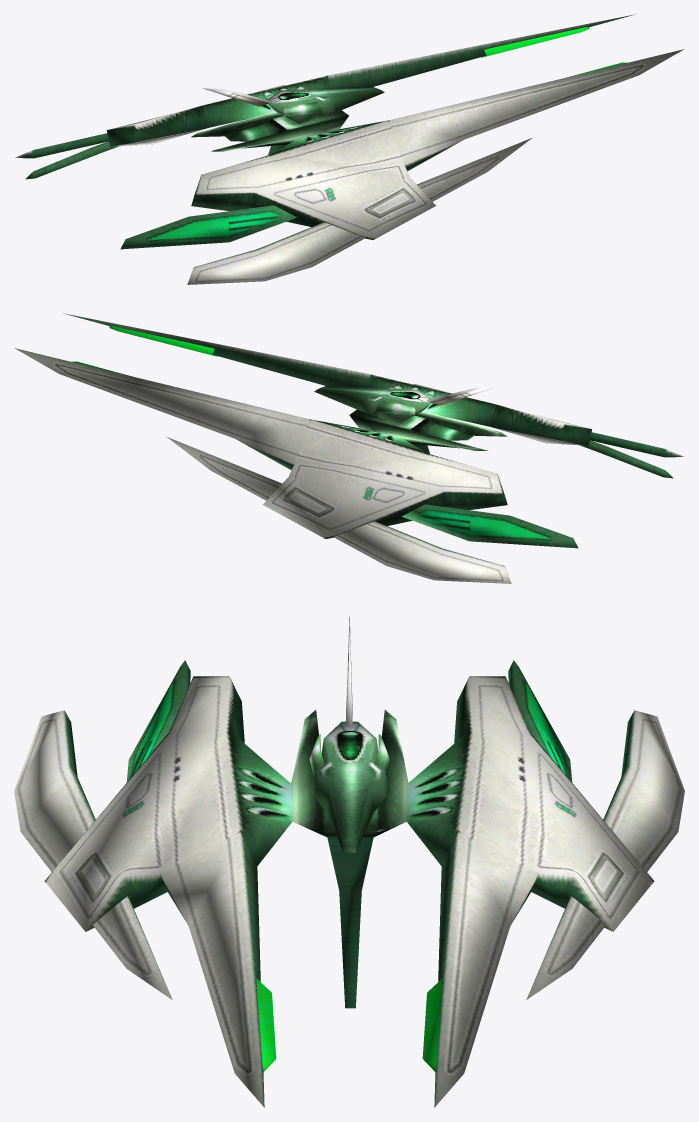
The model's file is thunder-wing.glb.
3 renders of one model, top to bottom at view 1: azimuth 30°, elevation 25°; view 2: azimuth 150°, elevation 25°; view 3: azimuth 270°, elevation 25°, orthographic. The views are drawn at different scales.
Visible parts, largest first — view 1: Box01, cock07; view 2: Box01, cock07; view 3: Box01, cock07.
Boxes of the visible parts, x1=… form: Box01: x1=15, y1=14, x2=683, y2=284; cock07: x1=203, y1=87, x2=384, y2=124; Box01: x1=15, y1=313, x2=683, y2=583; cock07: x1=314, y1=386, x2=495, y2=423; Box01: x1=14, y1=660, x2=684, y2=1107; cock07: x1=309, y1=617, x2=389, y2=852.
Bounding box in the file's own units: 40.07 × 8.06 × 22.25.
Materials: 2 (2 with a texture image).
